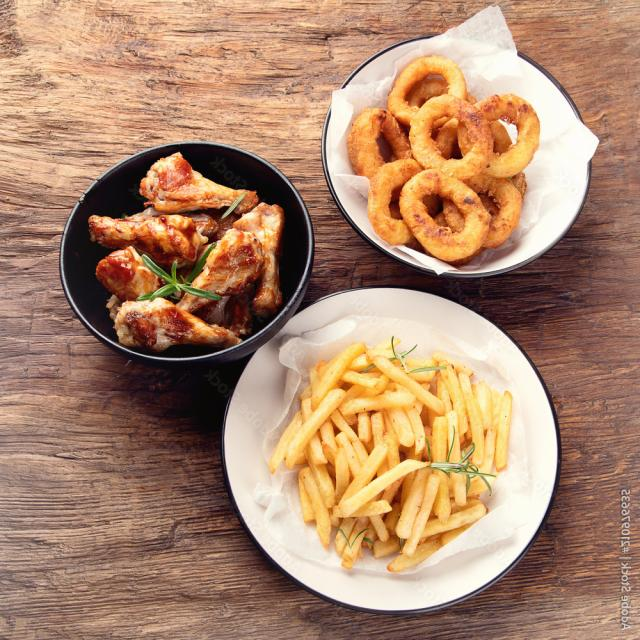Chicken Wings: (80, 145, 295, 355)
French Fries: (263, 338, 521, 581)
Onion Rings: (342, 58, 544, 265)
